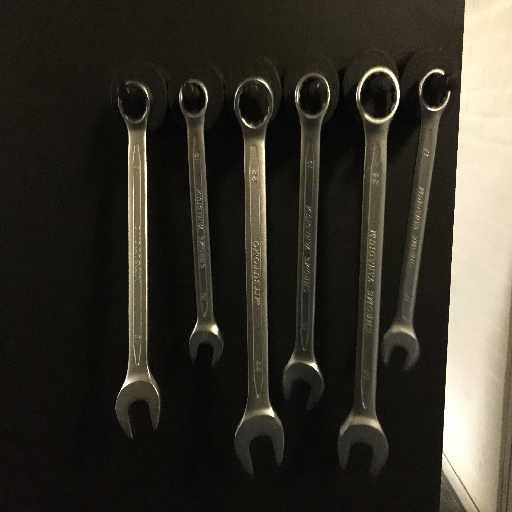bottom: (336, 411, 391, 479), (232, 410, 285, 476), (115, 376, 162, 438), (281, 353, 324, 411), (380, 321, 421, 373), (187, 319, 224, 371)
top: (353, 65, 402, 127), (231, 76, 276, 129), (293, 72, 332, 124), (116, 79, 153, 125), (416, 68, 453, 112), (178, 78, 210, 121)
